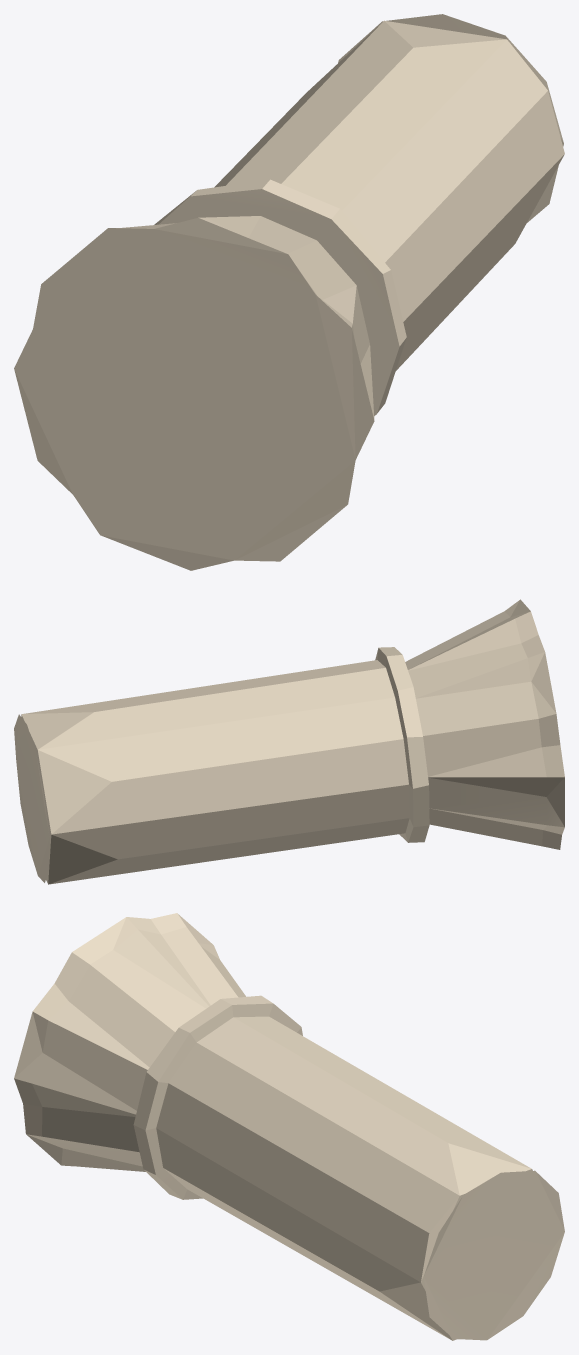
The model's file is ColumnDestroy_1.fbx.
3 renders of one model, top to bottom at view 1: azimuth 30°, elevation 25°; view 2: azimuth 150°, elevation 25°; view 3: azimuth 270°, elevation 25°, orthographic. The views are drawn at different scales.
Parts seen in each view (by area): view 1: ColumnDestroy.002; view 2: ColumnDestroy.002; view 3: ColumnDestroy.002.
Part boxes in pixels (left/top/right/bottom): ColumnDestroy.002: left=14, top=14, right=564, bottom=570; ColumnDestroy.002: left=14, top=599, right=564, bottom=884; ColumnDestroy.002: left=14, top=913, right=564, bottom=1340.
Bounding box in the file's own units: 138 × 66.08 × 131.
